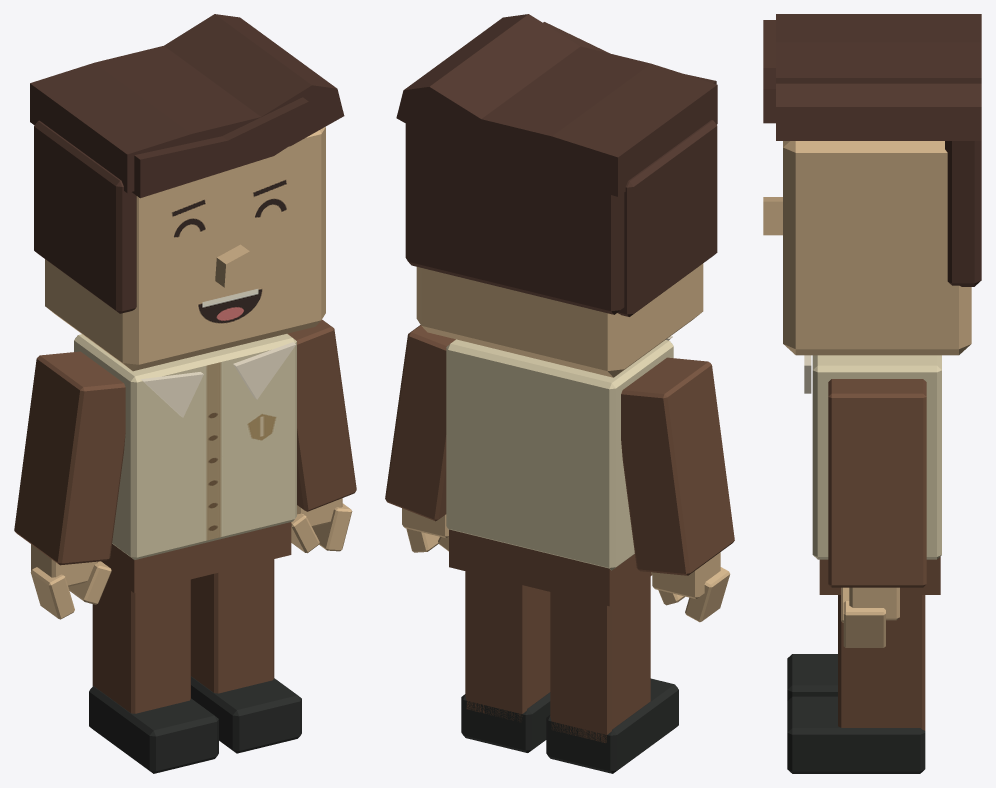
File: sorridente.fbx
3 renders of one model, left to right at view 1: azimuth 30°, elevation 25°; view 2: azimuth 150°, elevation 25°; view 3: azimuth 270°, elevation 25°, orthographic. The views are drawn at different scales.
Visible parts, largest first — view 1: Explorador_HelloYotta; view 2: Explorador_HelloYotta; view 3: Explorador_HelloYotta.
Part boxes in pixels (x1=…): Explorador_HelloYotta: x1=14, y1=14, x2=356, y2=773; Explorador_HelloYotta: x1=385, y1=14, x2=734, y2=773; Explorador_HelloYotta: x1=763, y1=14, x2=981, y2=773.
Bounding box in the file's own units: 131 × 272 × 77.5.
1 material, 1 textured.
